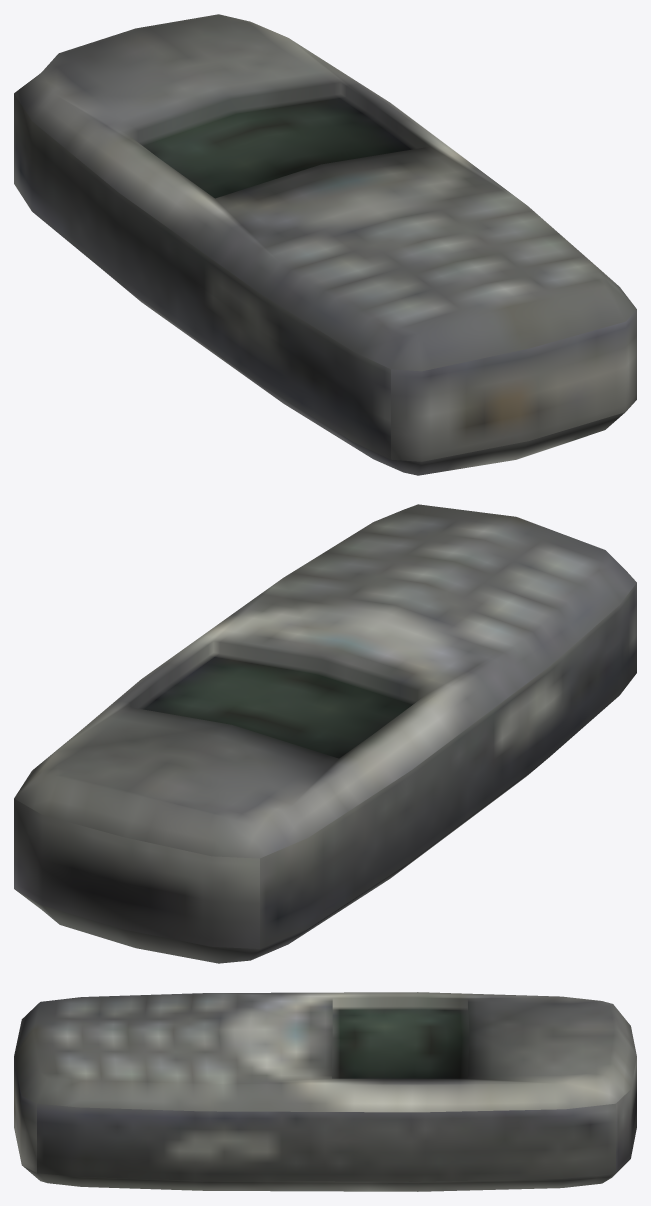
File: cell_phone_1.obj
3 renders of one model, top to bottom at view 1: azimuth 30°, elevation 25°; view 2: azimuth 150°, elevation 25°; view 3: azimuth 270°, elevation 25°, orthographic. The views are drawn at different scales.
Parts seen in each view (by area): view 1: cell_phone_1; view 2: cell_phone_1; view 3: cell_phone_1.
Part boxes in pixels (x1,y1,x2,y2): cell_phone_1: (14,14,636,475); cell_phone_1: (14,504,636,963); cell_phone_1: (14,992,636,1191).
Size of the model in its own units: 0.0877 by 0.0437 by 0.2106.
